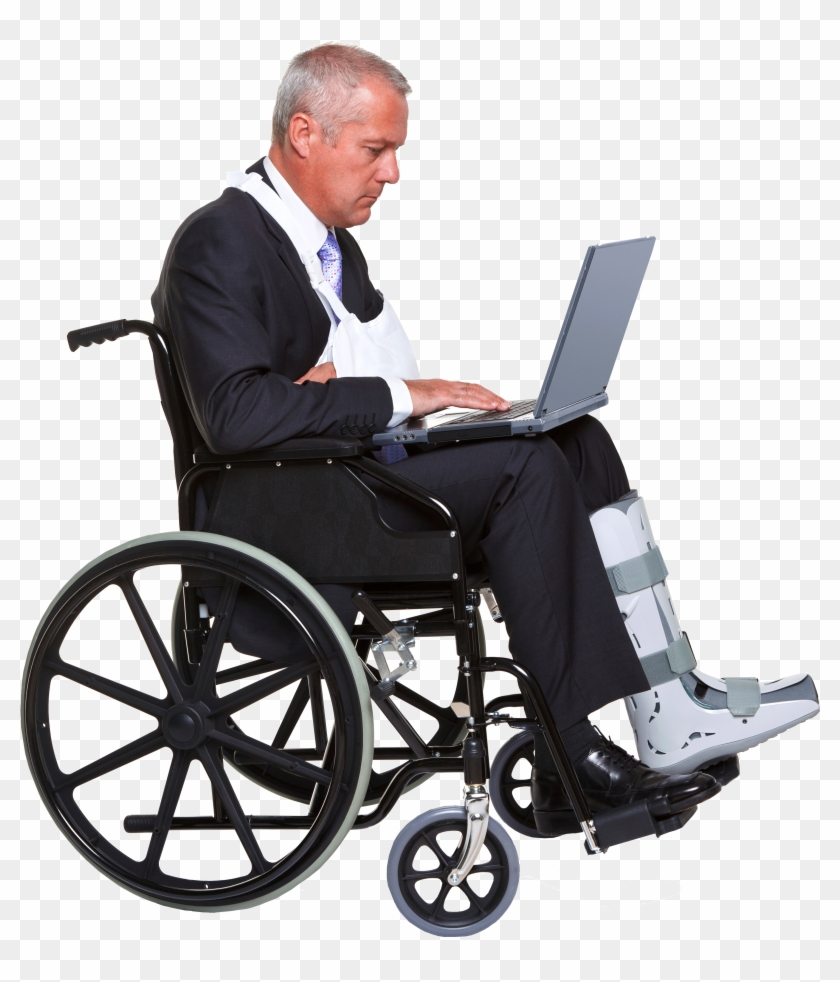wheelchair: (19, 45, 818, 940)
